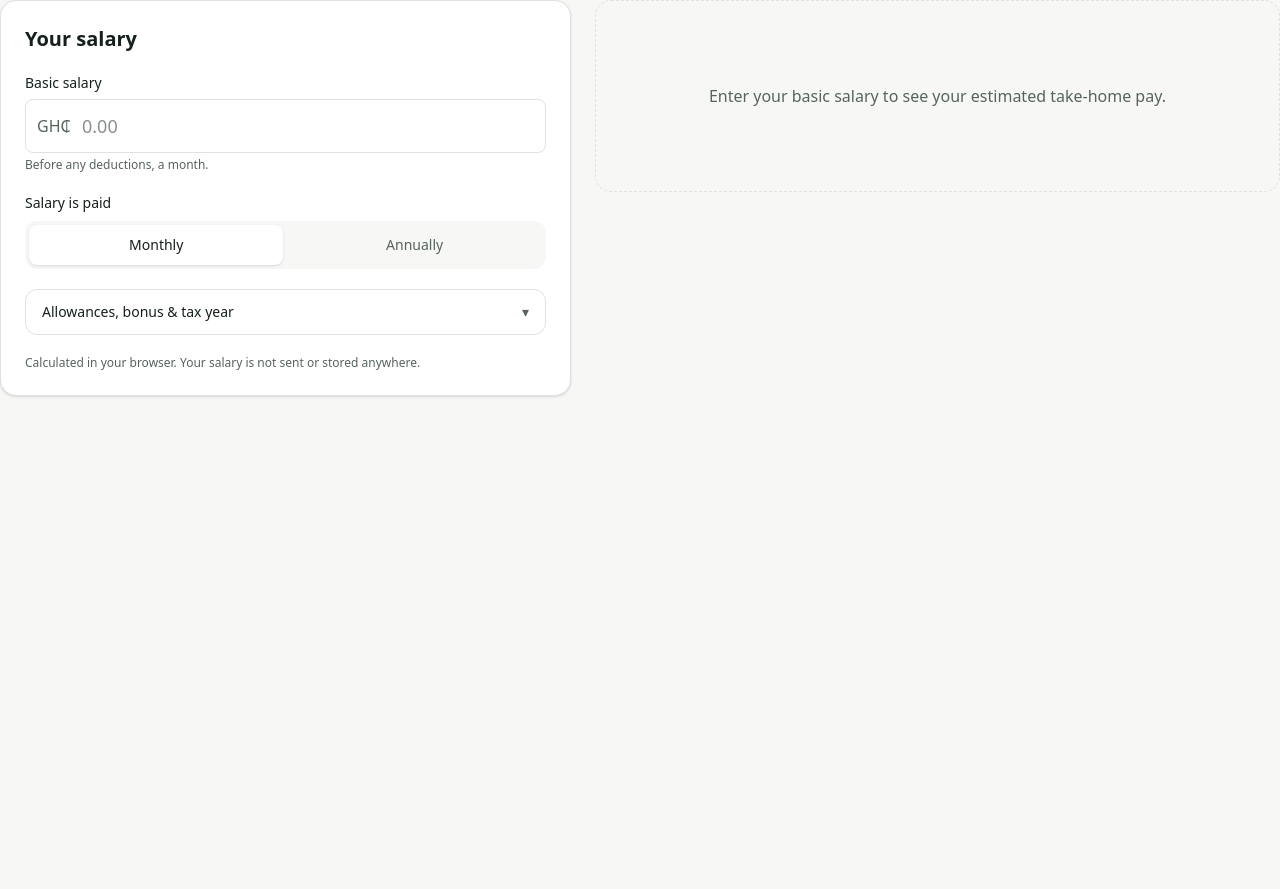
SalaryCalculator › switches between monthly and annual views
Type "5000" into the field labelled "Basic salary".
click(285, 126); type("5000")  # box [25,99,546,153]
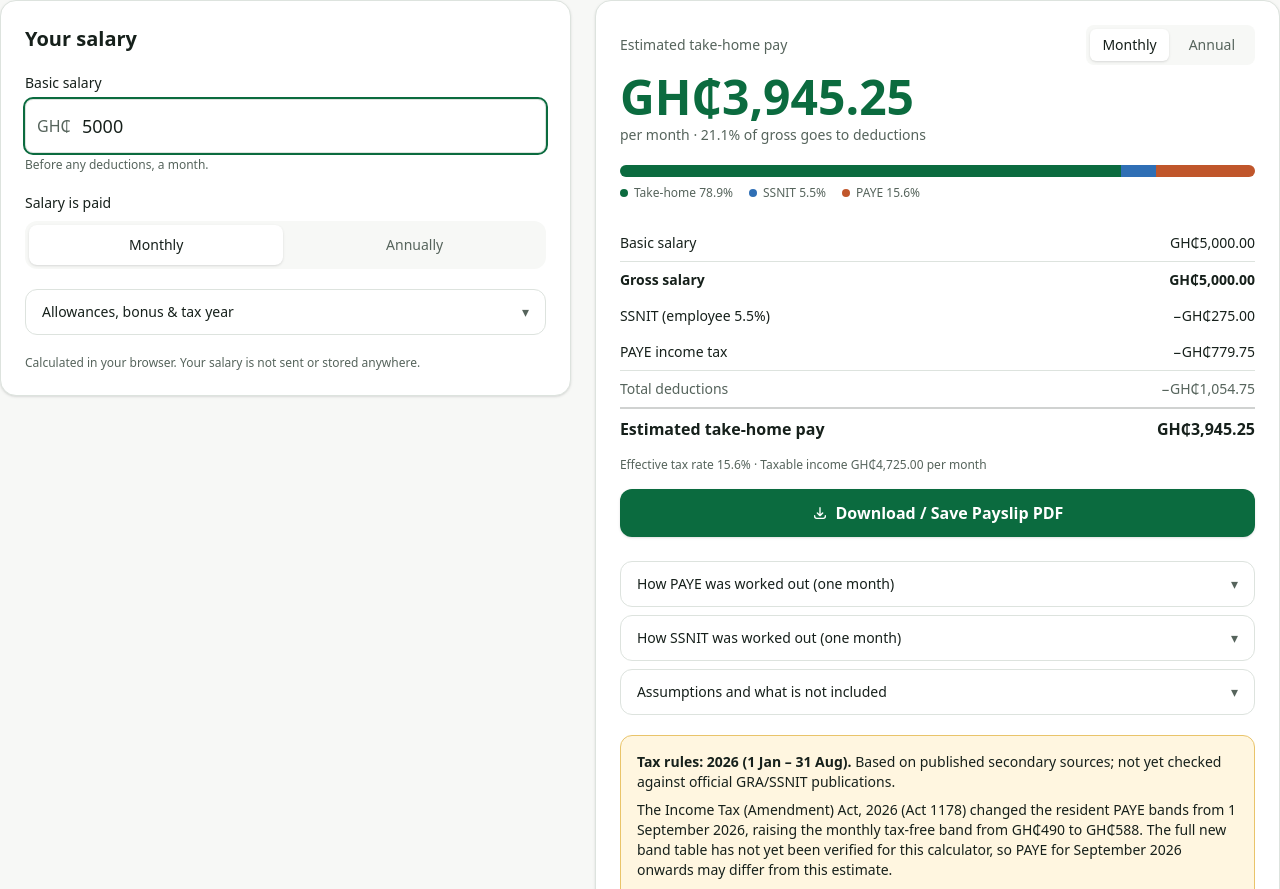
Click the button "Annual".
click(1212, 45)  # box [1173,29,1251,61]
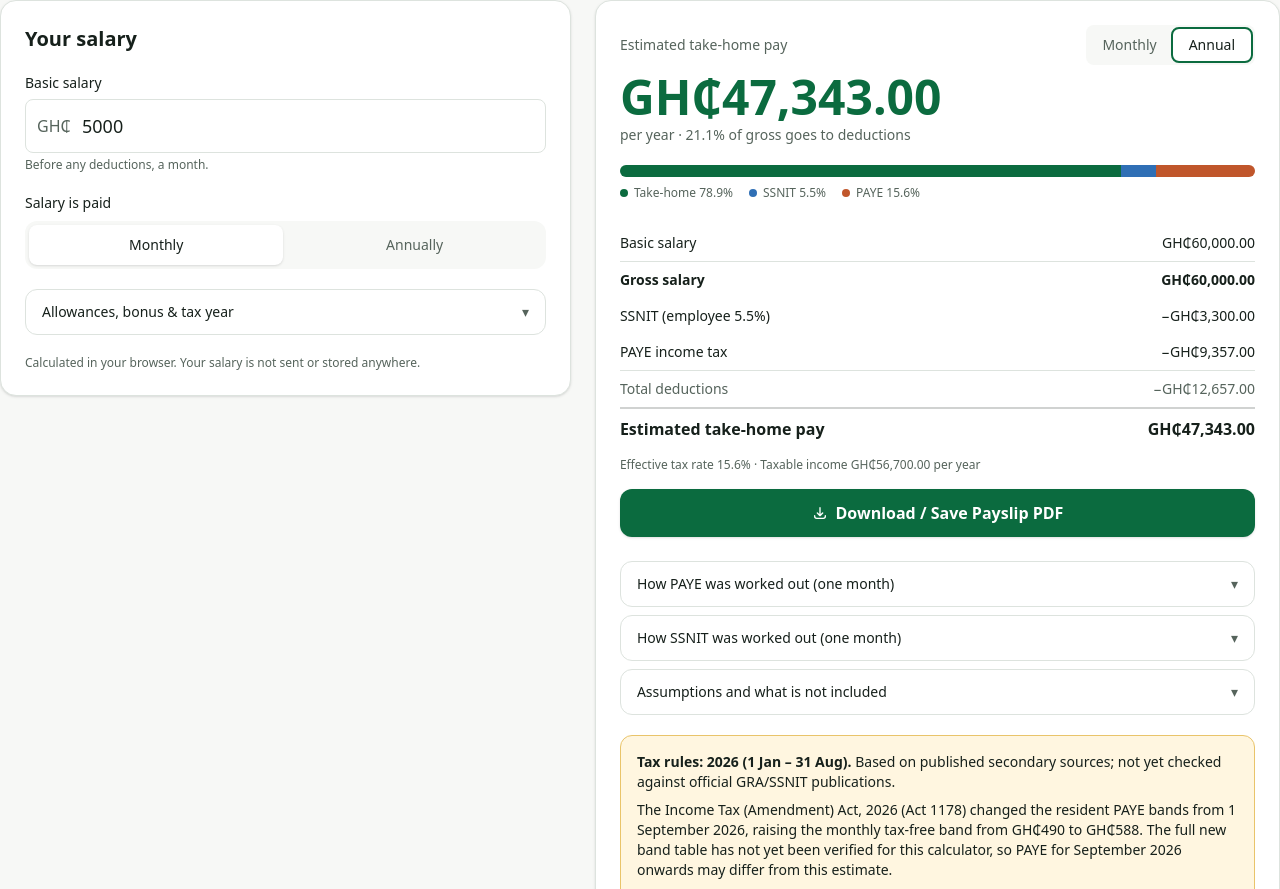
expect the text with test id "net-pay" reads "GH₵47,343.00": met, box [620,64,942,129]
Click the button "Monthly".
click(1130, 45)  # box [1090,29,1169,61]
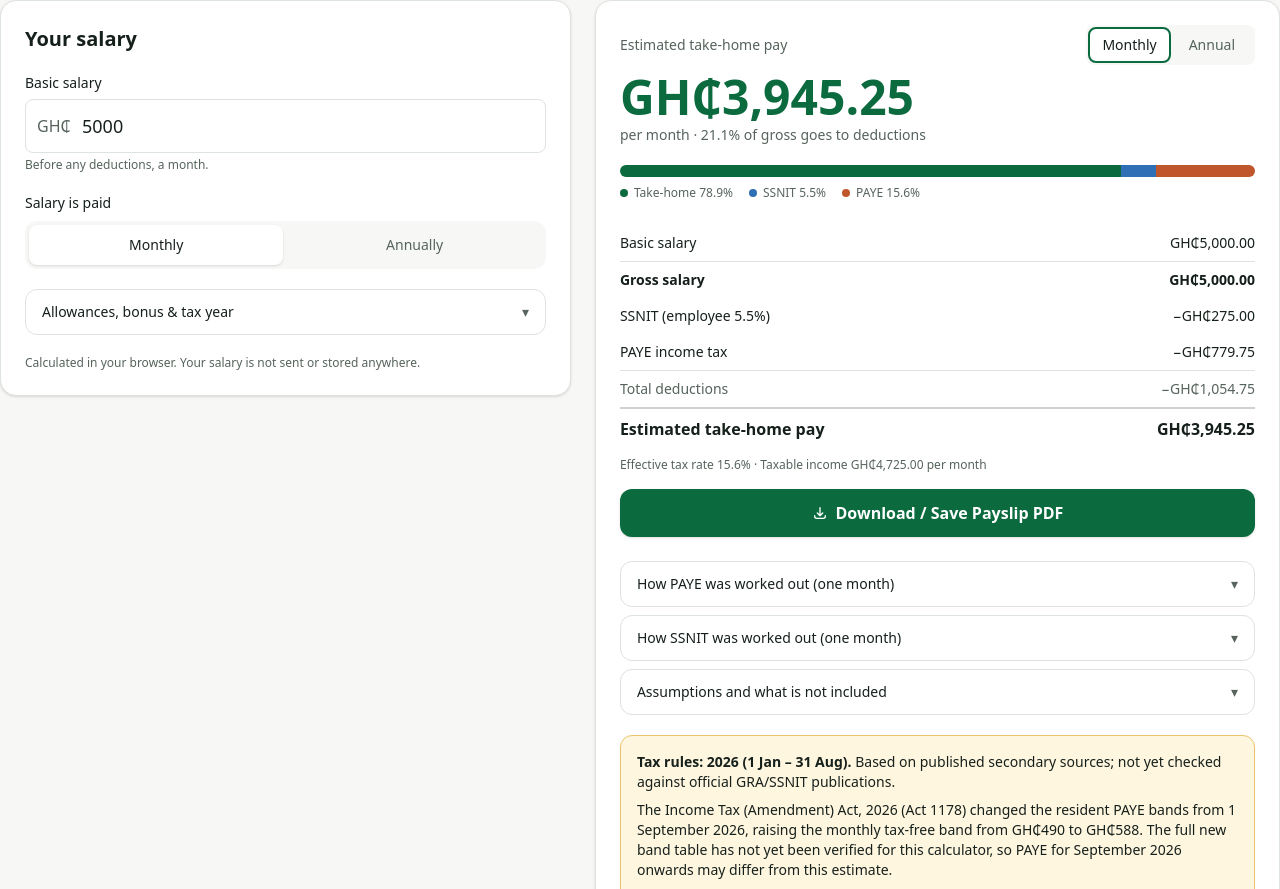
expect the text with test id "net-pay" reads "GH₵3,945.25": met, box [620,64,914,129]
